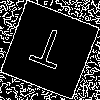T: (24, 25, 70, 79)
